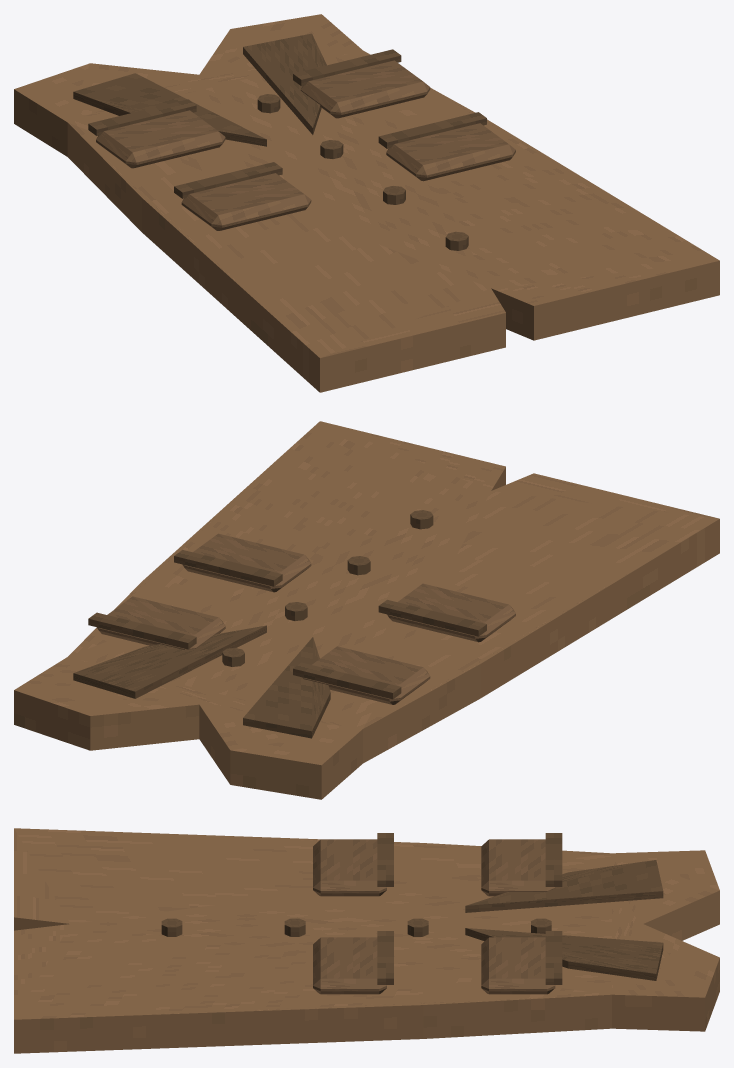
The model's file is sleeveless_duster_leather.glb.
3 renders of one model, top to bottom at view 1: azimuth 30°, elevation 25°; view 2: azimuth 150°, elevation 25°; view 3: azimuth 270°, elevation 25°, orthographic.
Visible parts, largest first — view 1: block_coat body, block_patch pocket (×4), block_lapel (×2), block_pocket welt (×4); view 2: block_coat body, block_patch pocket (×4), block_lapel (×2), block_pocket welt (×4); view 3: block_coat body, block_patch pocket (×4), block_lapel (×2), block_pocket welt (×4), block_button (×3).
Part boxes in pixels (x1,y1,x2,y2): block_coat body: (14, 14, 719, 392); block_patch pocket (×4): (96, 60, 515, 230); block_lapel (×2): (73, 33, 326, 146); block_pocket welt (×4): (88, 49, 486, 198); block_coat body: (14, 421, 719, 799); block_patch pocket (×4): (97, 533, 515, 704); block_lapel (×2): (73, 625, 330, 738); block_pocket welt (×4): (88, 550, 486, 699); block_coat body: (14, 828, 719, 1053); block_patch pocket (×4): (313, 839, 555, 994); block_lapel (×2): (465, 860, 663, 980); block_pocket welt (×4): (377, 833, 562, 984); block_button (×3): (161, 918, 428, 936).
Bounding box in the file's own units: 0.5541 × 0.0703 × 0.8631.
Materials: 1 (1 with a texture image).
